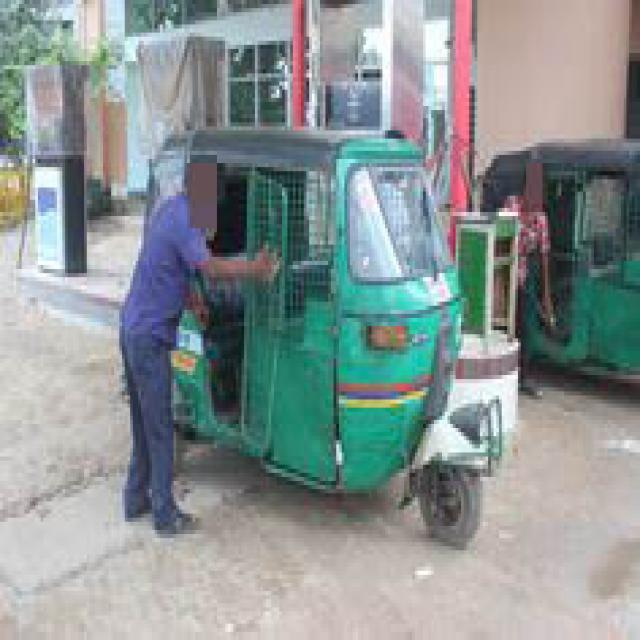CNG: (103, 108, 521, 552), (462, 115, 640, 403)
